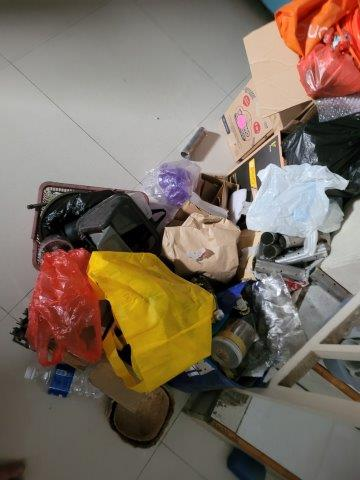botolplastik: (26, 364, 108, 398)
kardus: (220, 20, 308, 157)
plastik: (37, 249, 98, 362), (251, 164, 344, 234), (298, 38, 360, 102), (151, 161, 202, 207)
